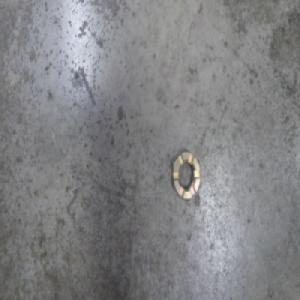Nut: (171, 147, 200, 203)
